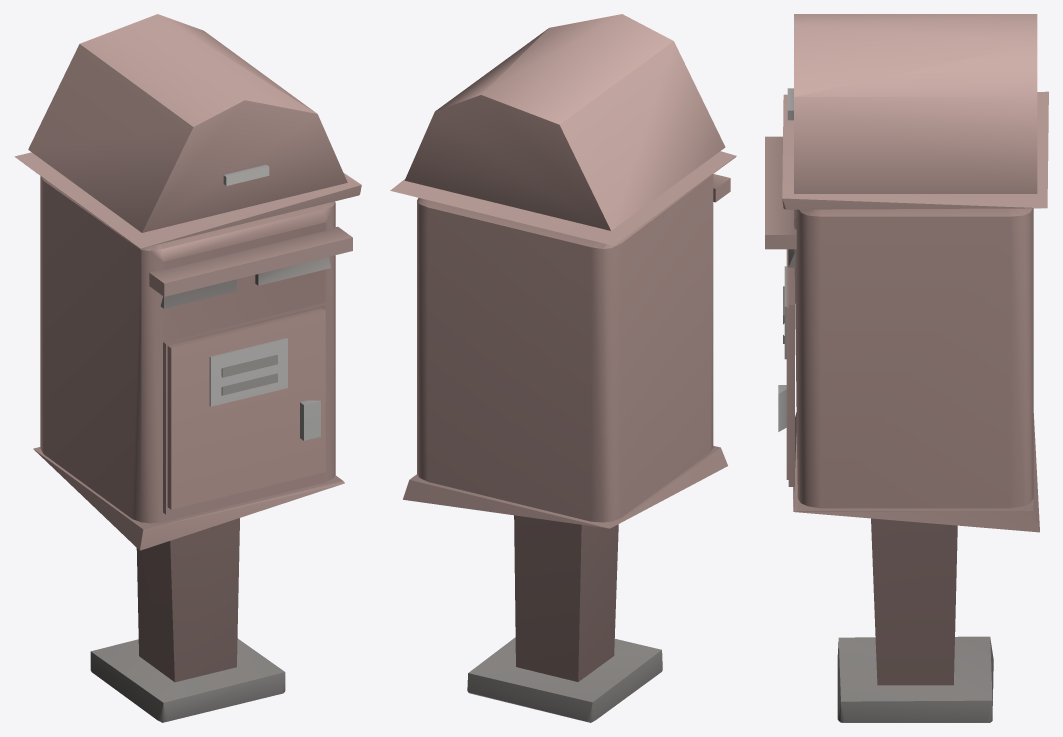
The model's file is postbox.lod2.glb.
3 renders of one model, left to right at view 1: azimuth 30°, elevation 25°; view 2: azimuth 150°, elevation 25°; view 3: azimuth 270°, elevation 25°, orthographic. The views are drawn at different scales.
Bounding box in the file's own units: 0.522 × 1.39 × 0.5373.
